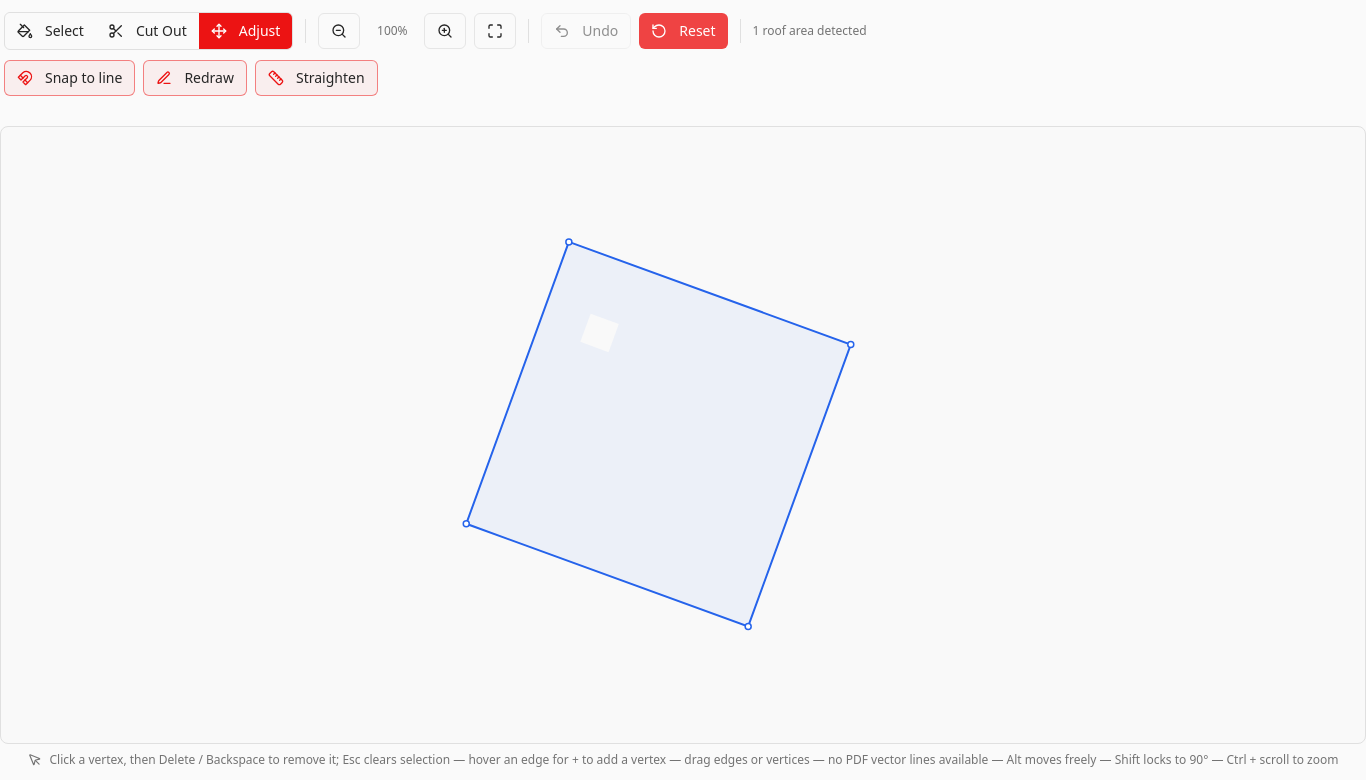
Test: supports free placement and keeps drawing after a connection, with Back restoring the previous candidate
The width and height of the screenshot is (1366, 780).
Earlier steps of the test are not shown.
Later steps or results of the test are not shown.
Click the button "Redraw" at (195, 78), box [143,60,247,96]
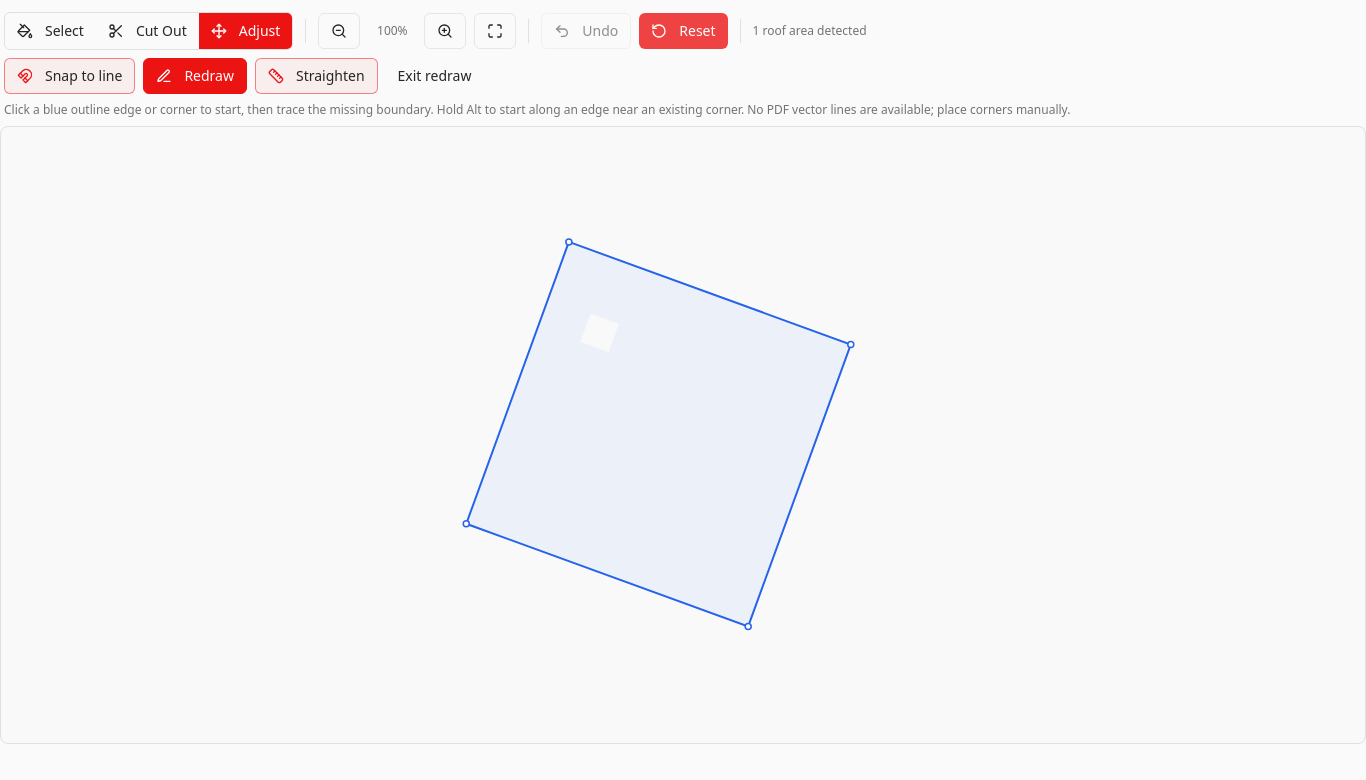
expect the message shows "No PDF vector lines are available": met, box [744,101,1070,118]
Press the mouse on the icon with test id "polyline-redraw-overlay" at (683, 435), box [308,135,1058,735]
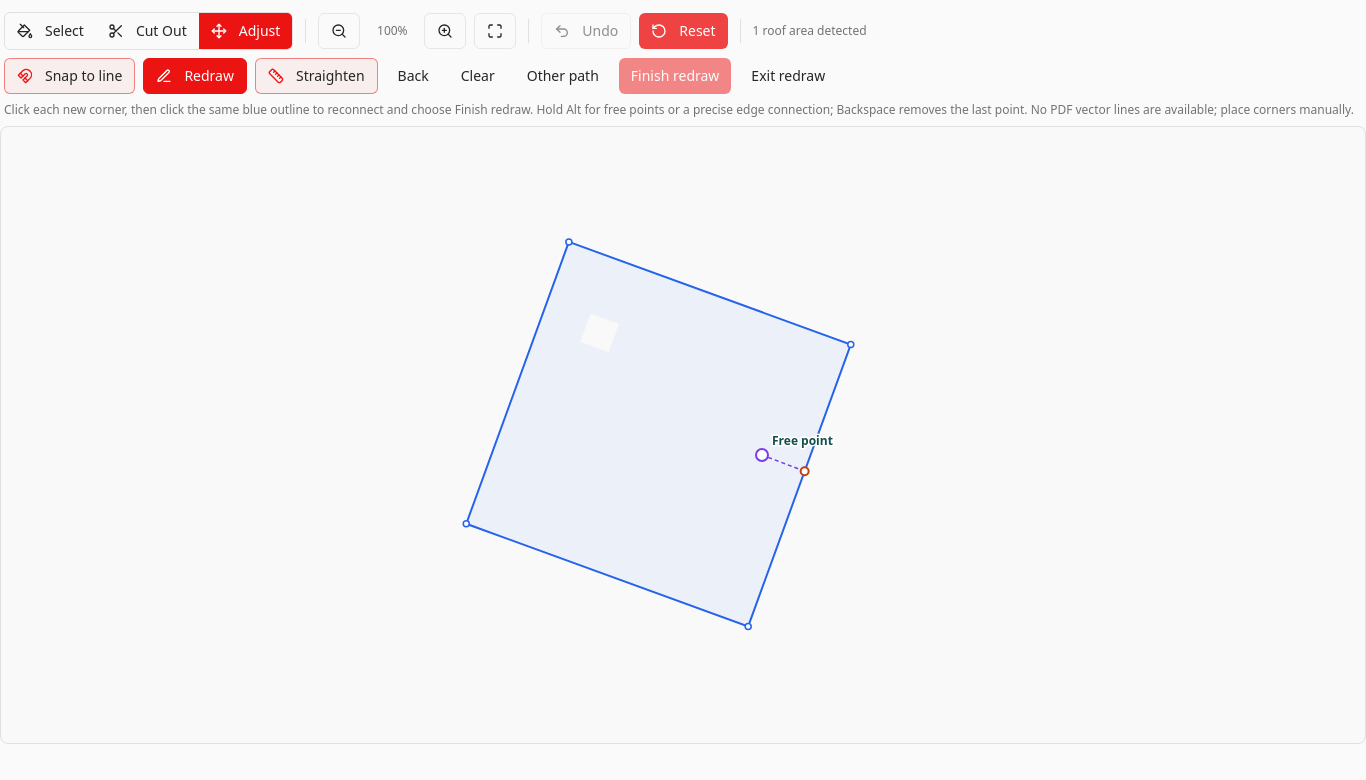
Press the mouse on the icon with test id "polyline-redraw-overlay" at (683, 435), box [308,135,1058,735]
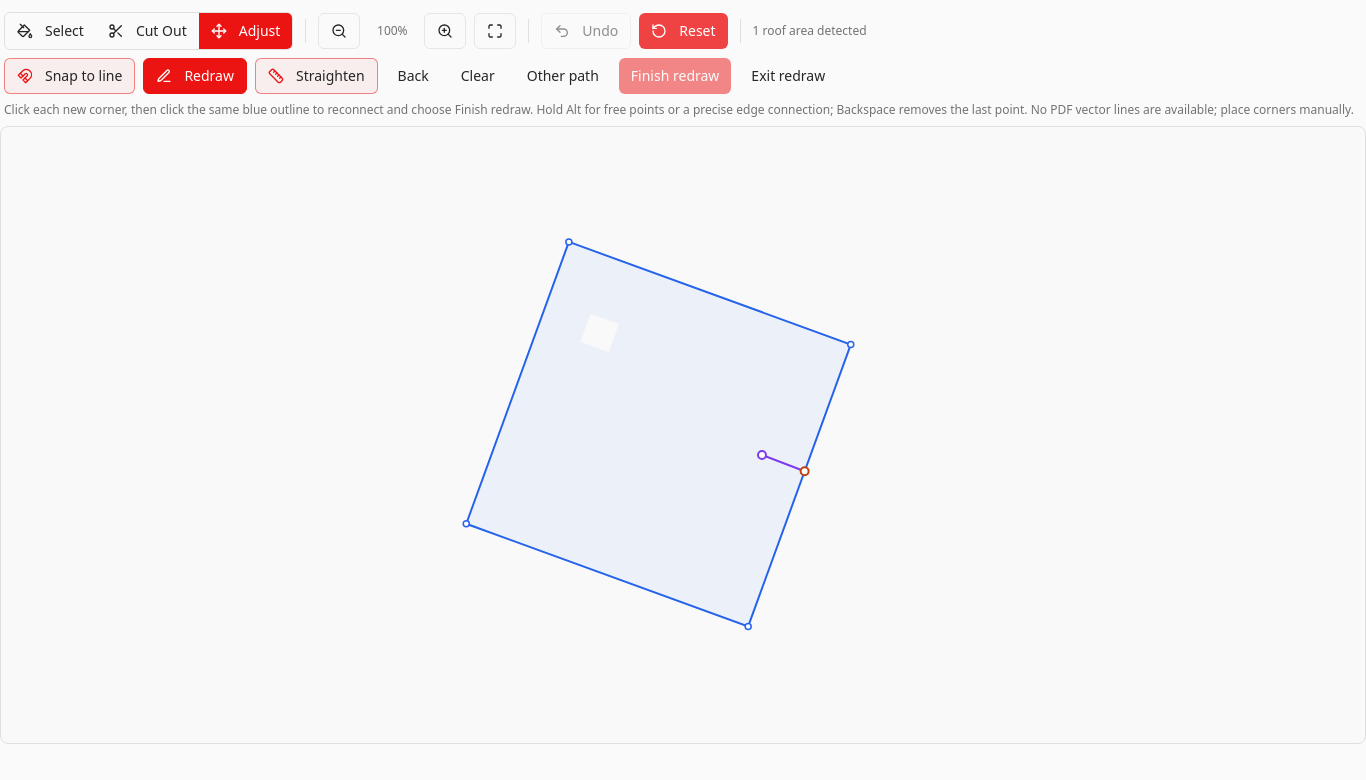
expect the button "Finish redraw" is disabled: met, box [619,58,731,94]
Press the mouse on the icon with test id "polyline-redraw-overlay" at (683, 435), box [308,135,1058,735]
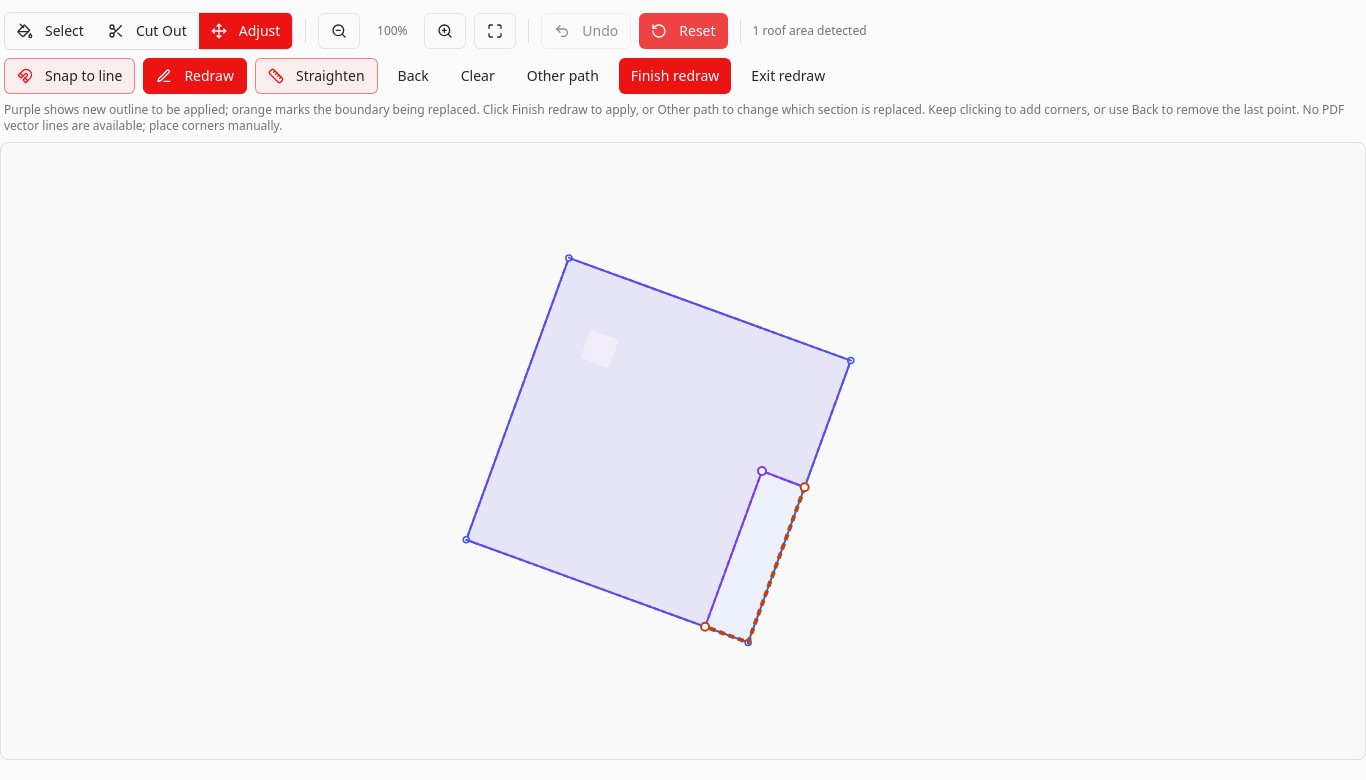
expect the button "Finish redraw" is enabled: met, box [619,58,731,94]
Press the mouse on the icon with test id "polyline-redraw-overlay" at (683, 451), box [308,151,1058,751]
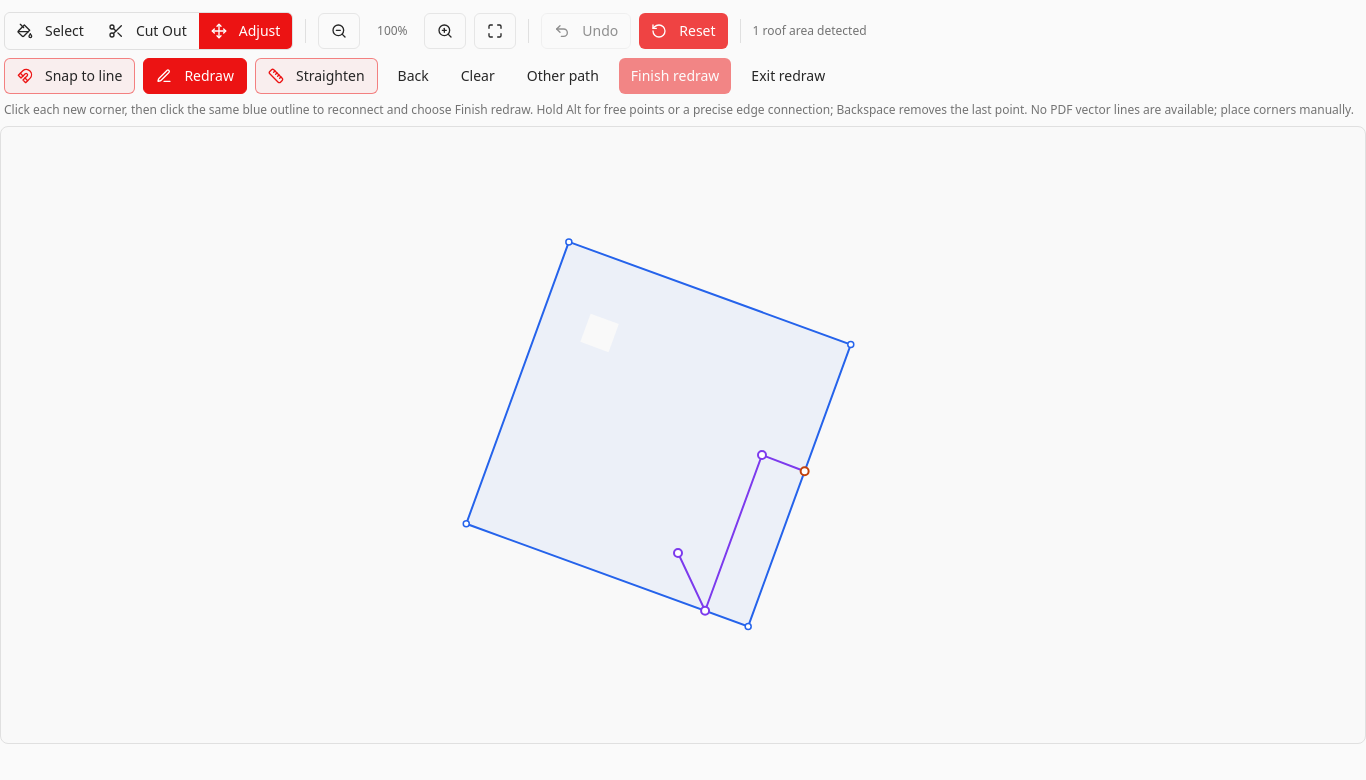
expect the button "Finish redraw" is disabled: met, box [619,58,731,94]
Click the button "Back" at (413, 76), box [386,58,441,94]
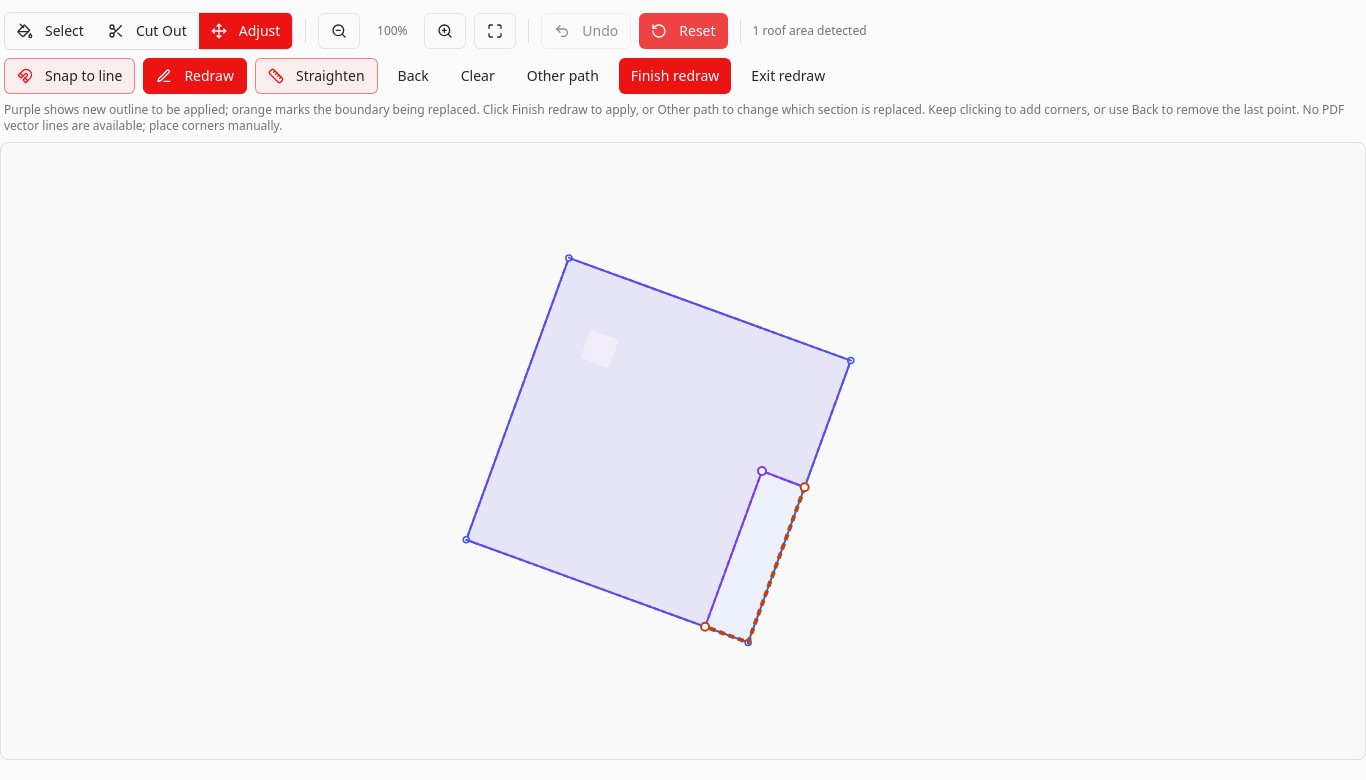
expect the button "Finish redraw" is enabled: met, box [619,58,731,94]
